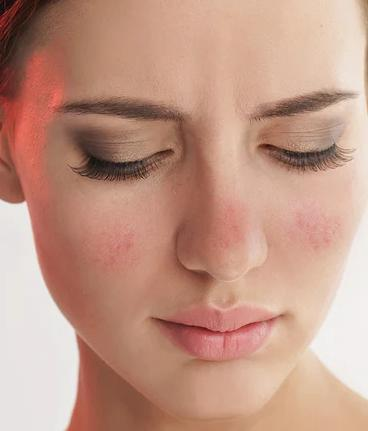Skin-Redness: (280, 194, 346, 261), (80, 221, 152, 275)
